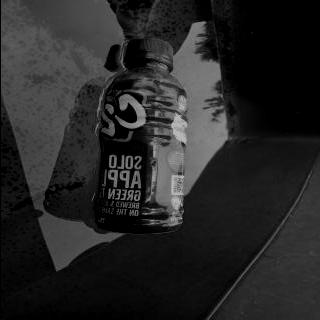bottle: (90, 38, 188, 234)
